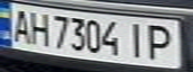0: (84, 17, 103, 54)
3: (66, 15, 87, 52)
4: (100, 18, 124, 56)
7: (48, 12, 69, 50)
A: (6, 7, 33, 44)
H: (27, 9, 51, 46)
I: (124, 19, 151, 60)
P: (142, 21, 181, 61)
